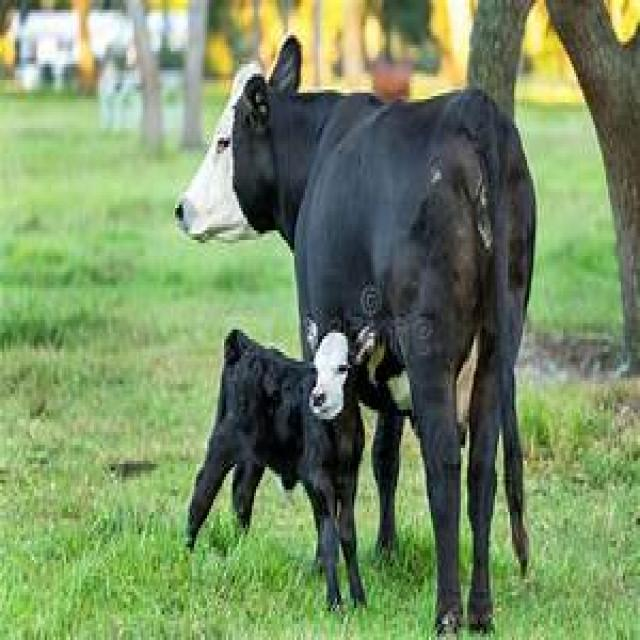cow: (175, 38, 538, 634), (186, 330, 365, 611)
